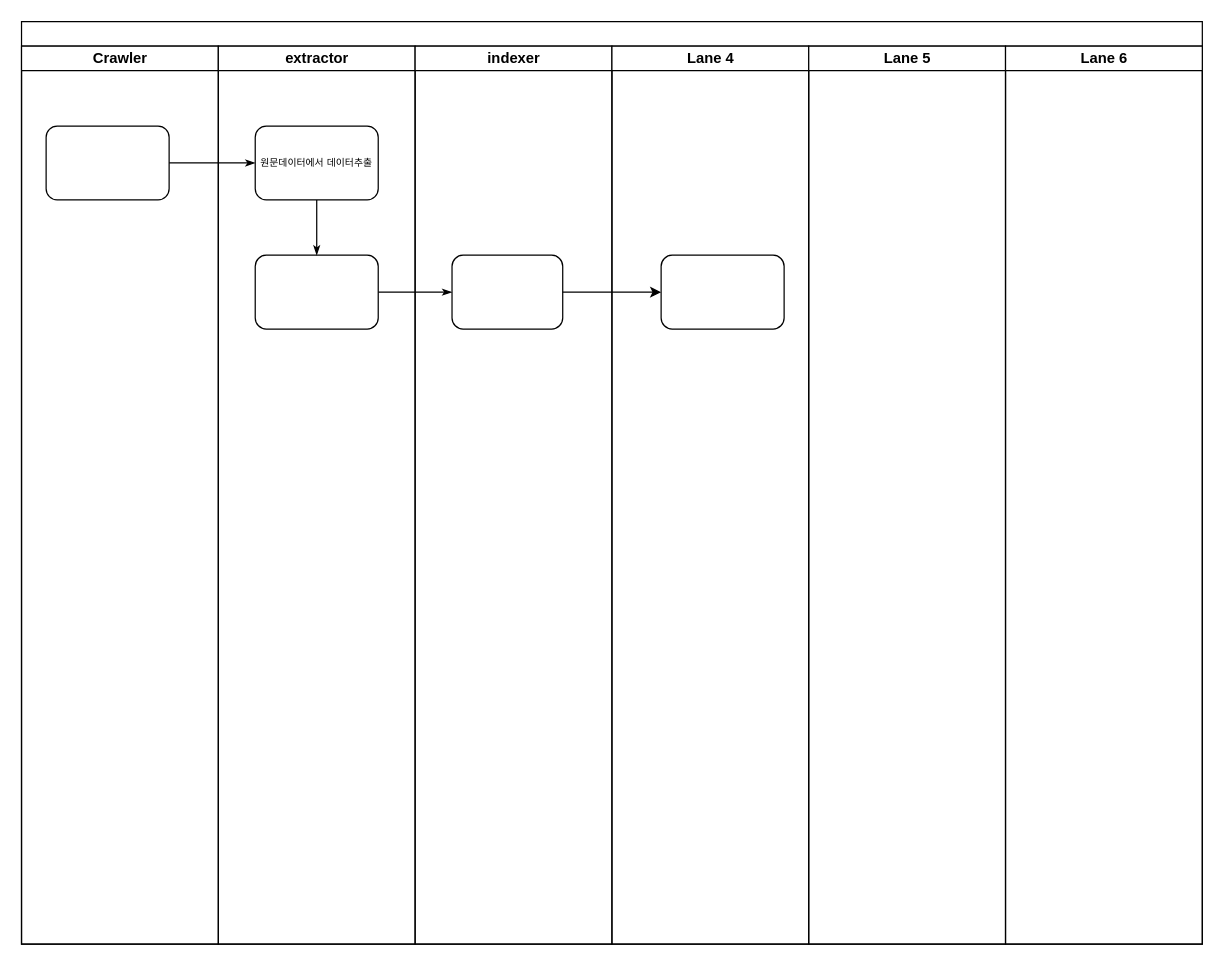
Some shapes in this 1224 by 966 pixel diagram are drawn without their labels. Here are the shapes that lost their labels. From the top down, the centre of each, then its label:
At [107,162]: "웹크롤링".
At [316,291]: "데이터 스트림 생성".
At [507,291]: "스트림을 인덱서에 저장".
At [722,291]: "조회".
